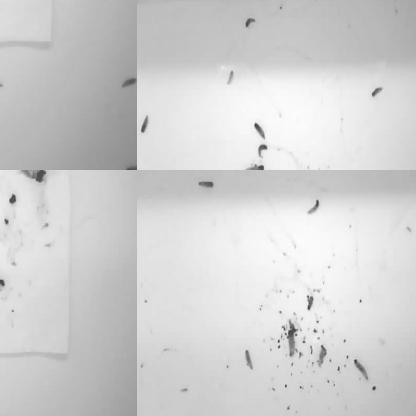PtecticusTenebrifer: (354, 359, 368, 381), (244, 347, 254, 371), (253, 122, 266, 140), (307, 198, 320, 216), (288, 328, 295, 358), (121, 77, 137, 90), (317, 346, 326, 368), (370, 86, 384, 98), (356, 170, 376, 178), (198, 179, 213, 189), (140, 114, 148, 132), (245, 16, 256, 29), (257, 144, 267, 158), (226, 69, 234, 86), (242, 164, 264, 170), (0, 78, 8, 90), (0, 337, 6, 353), (308, 296, 314, 311), (137, 17, 143, 31), (374, 0, 390, 5), (84, 0, 91, 11), (126, 163, 137, 170), (98, 0, 104, 11), (103, 0, 109, 11), (0, 240, 6, 251), (13, 170, 19, 181), (51, 0, 56, 12), (0, 0, 7, 8), (0, 0, 7, 7), (137, 0, 143, 7), (0, 170, 9, 174), (137, 0, 144, 5), (0, 0, 5, 5)
